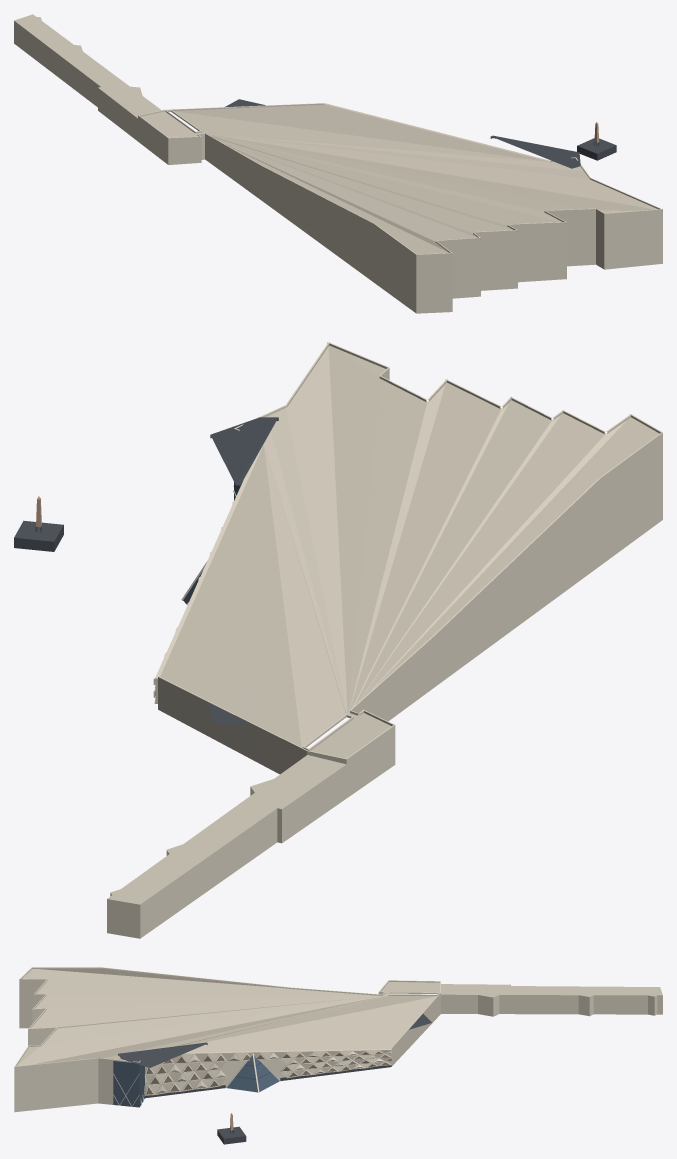
Rendered from giza-grand-egyptian-museum.glb.
The picture shows the model from 3 angles, top to bottom: view 1: azimuth 30°, elevation 25°; view 2: azimuth 150°, elevation 25°; view 3: azimuth 270°, elevation 25°; orthographic projection. The views are drawn at different scales.
Visible parts, largest first — view 1: Grand Egyptian Museum; view 2: Grand Egyptian Museum; view 3: Grand Egyptian Museum.
Part boxes in pixels (bbox=[...]): Grand Egyptian Museum: bbox=[14, 14, 662, 313]; Grand Egyptian Museum: bbox=[14, 342, 662, 938]; Grand Egyptian Museum: bbox=[14, 967, 662, 1144].
Bounding box in the file's own units: 318 × 51.52 × 614.
